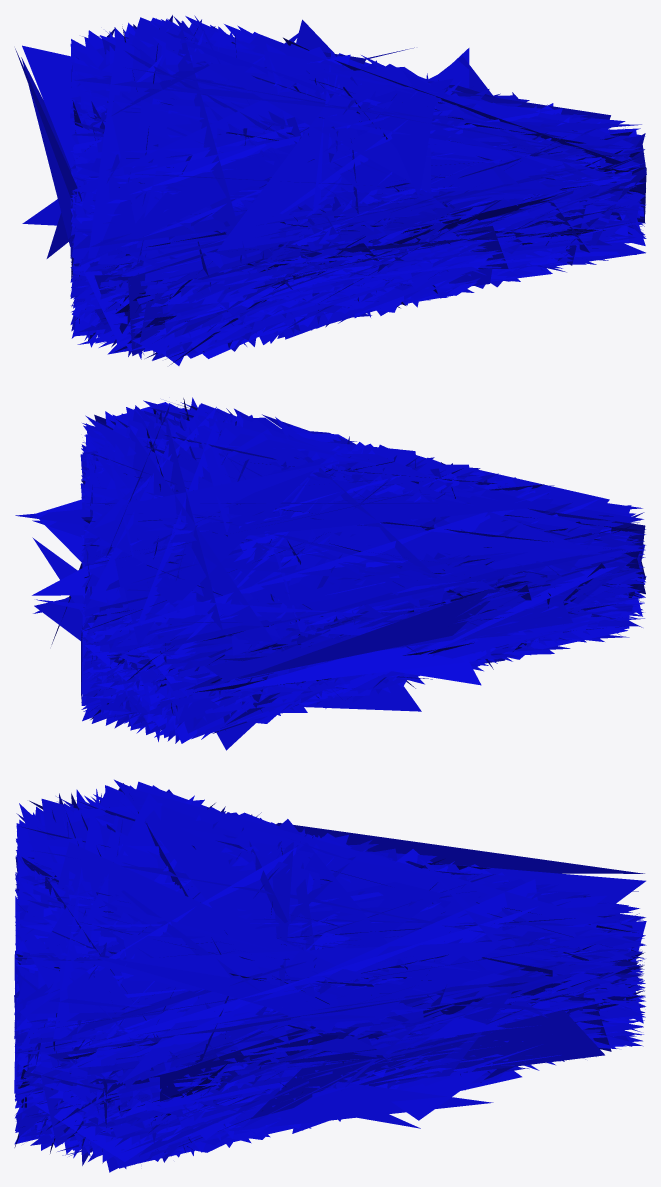
File: vps_f_0.obj
The picture shows the model from 3 angles, top to bottom: view 1: azimuth 30°, elevation 25°; view 2: azimuth 150°, elevation 25°; view 3: azimuth 270°, elevation 25°; orthographic projection. The views are drawn at different scales.
Size of the model in its own units: 15.11 by 2.08 by 13.1.
